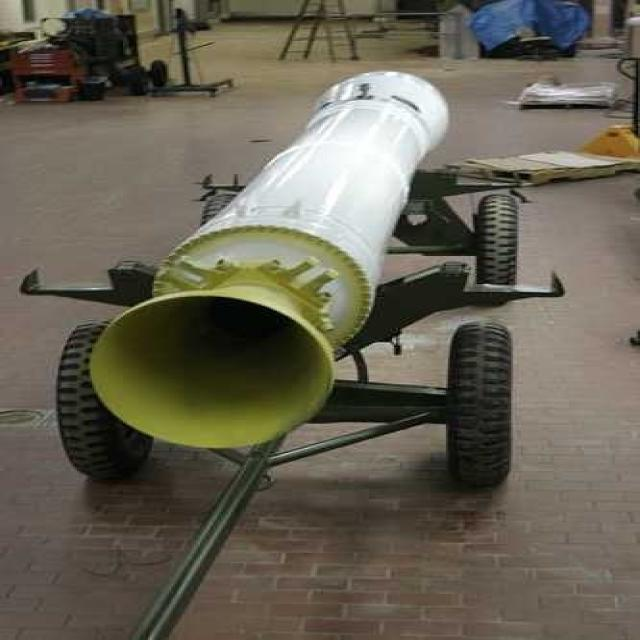missile: (78, 62, 448, 444)
